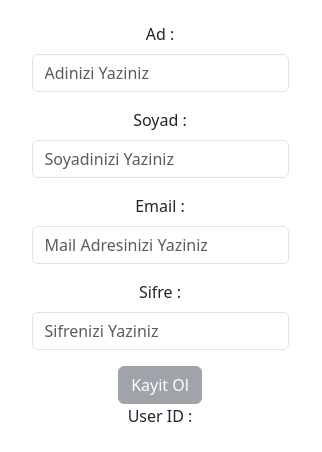
Tests › Error Messages › email input test fail for invalid email address
Type "sirma.atakoutlook.com" into the field with test id "email-input" at (161, 245), box left=32, top=226, right=289, bottom=264
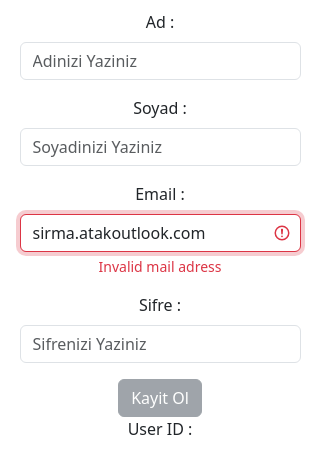
Expected: the text "Invalid mail adress" is shown, left=98, top=256, right=221, bottom=276
